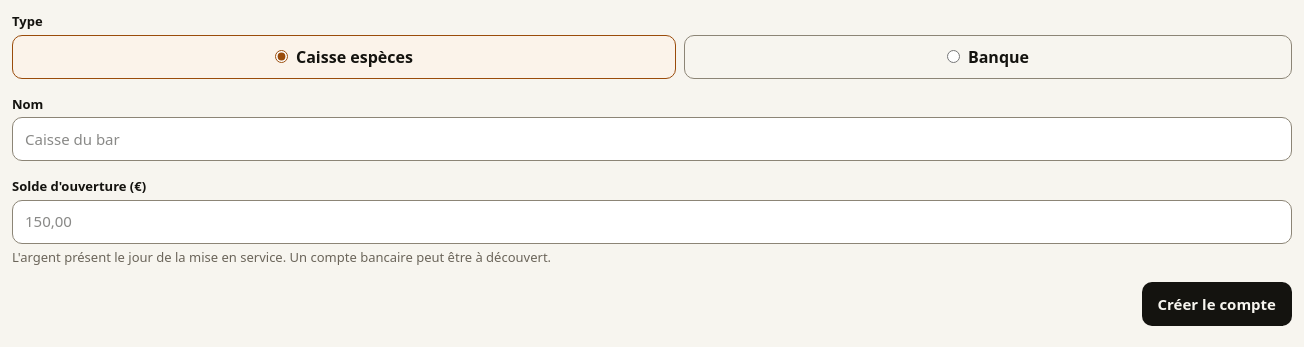
Scenario: AccountForm › asks for a valid amount
Type "Caisse" into the field labelled "Nom" at (652, 139), box [12,117,1292,161]
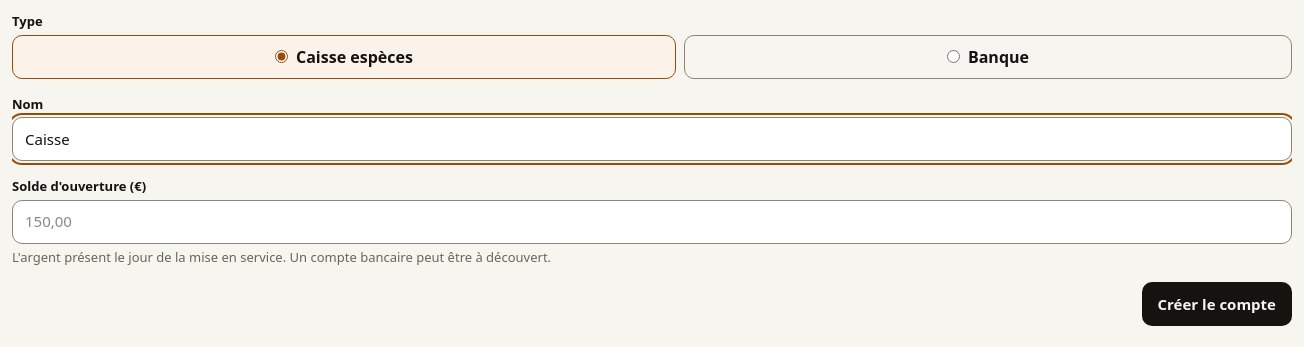
Type "beaucoup" into the field labelled "Solde d'ouverture (€)" at (652, 222), box [12,200,1292,244]
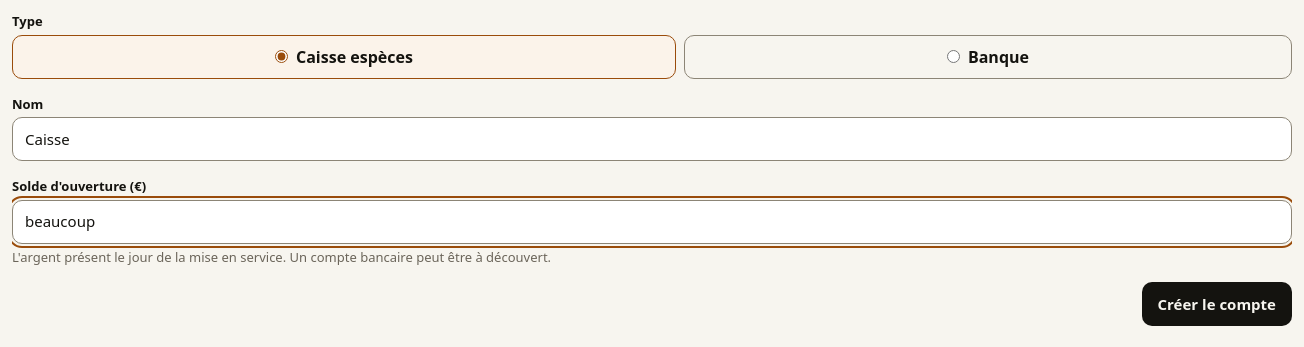
Click the button "Créer le compte" at (1217, 304), box [1142,282,1292,326]
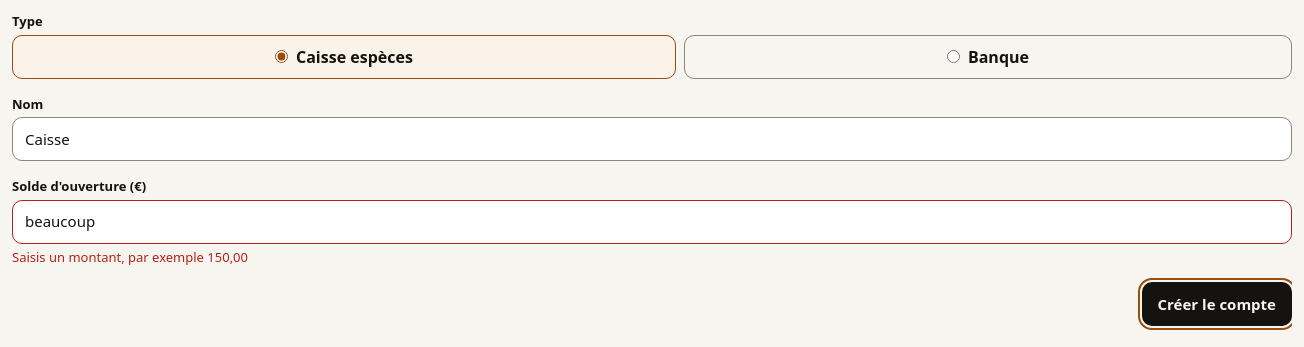
Check: the text "Saisis un montant, par exemple 150,00" is shown, box [12,248,248,266]
